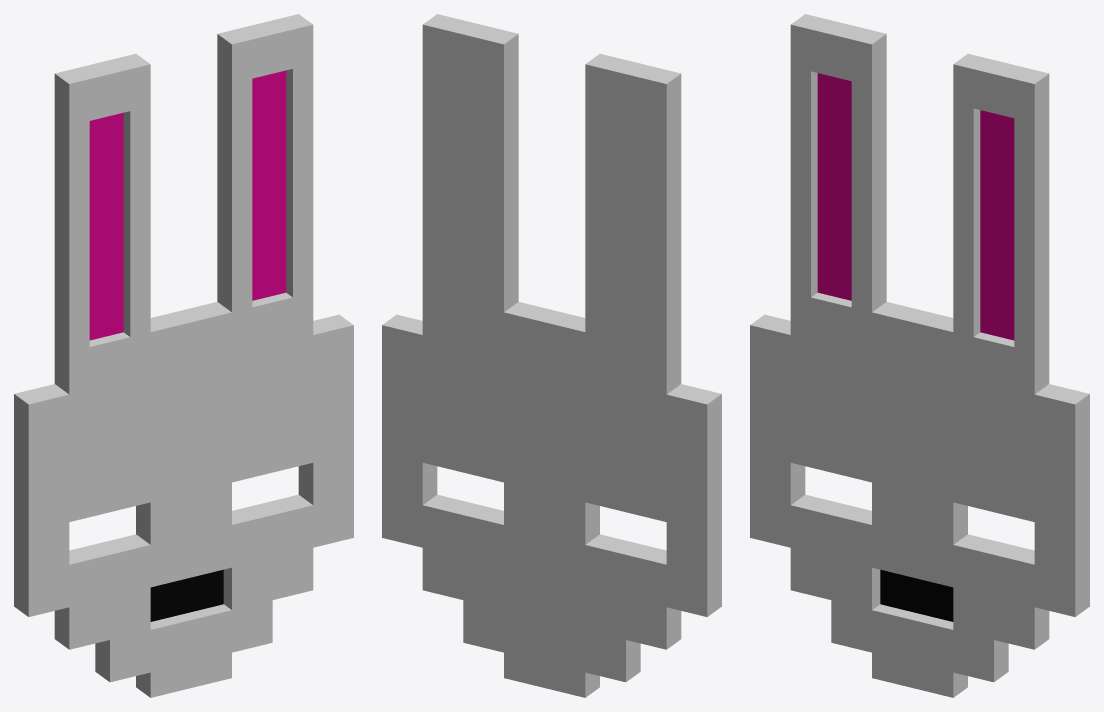
File: f_bunny_mask.fbx
3 views of the same model, side by side, from view 1: azimuth 30°, elevation 25°; view 2: azimuth 150°, elevation 25°; view 3: azimuth 330°, elevation 25° (orthographic).
Parts seen in each view (by area): view 1: Bunny Mask; view 2: Bunny Mask; view 3: Bunny Mask.
Part boxes in pixels (bbox=[...]): Bunny Mask: bbox=[14, 14, 353, 697]; Bunny Mask: bbox=[382, 14, 721, 697]; Bunny Mask: bbox=[750, 14, 1089, 697].
Bounding box in the file's own units: 40.84 × 76.05 × 3.16.
